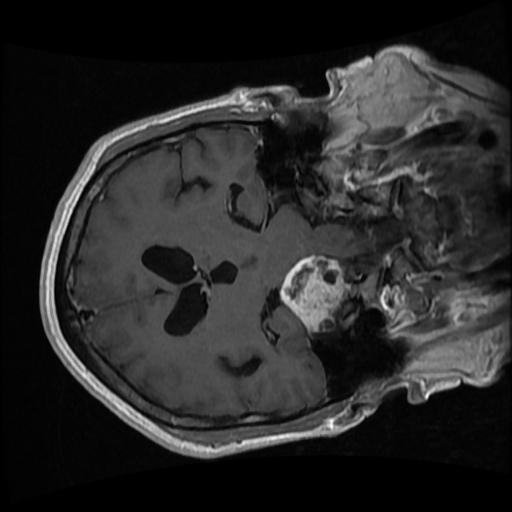meningioma: (279, 255, 343, 332)
